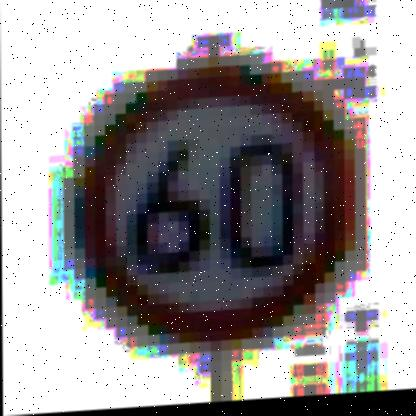Speed Limit -60-: (61, 48, 370, 364)
